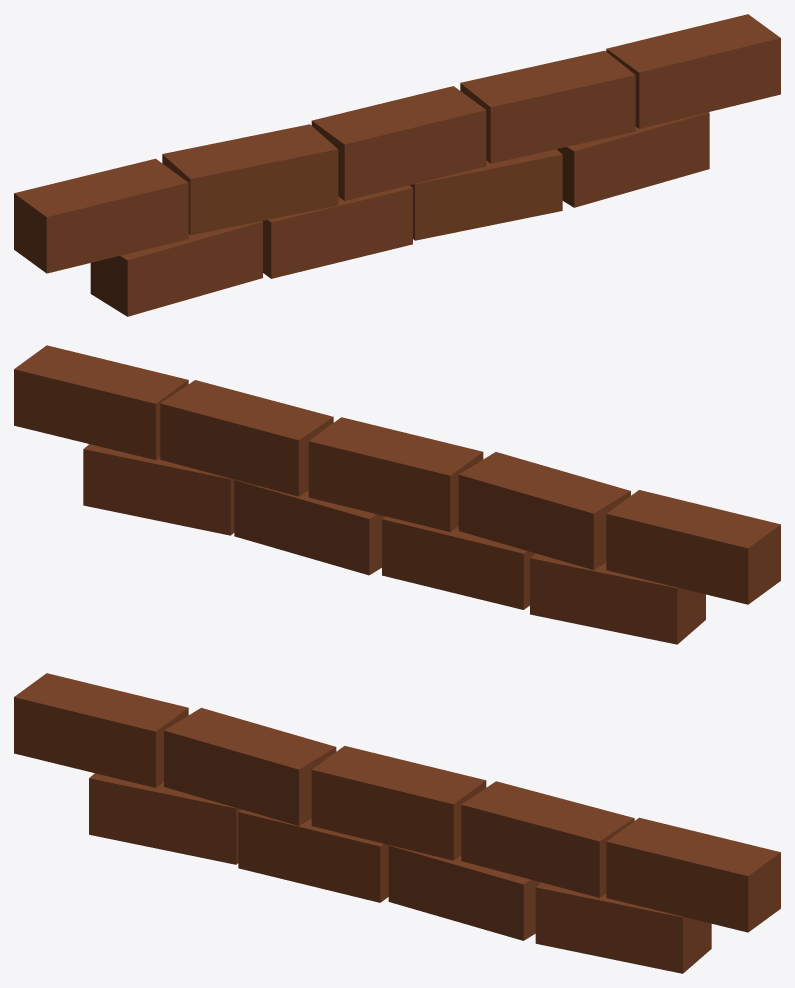
The model's file is middle_eastern_sandstone_wall__7uEf9KAU9q.glb.
3 renders of one model, top to bottom at view 1: azimuth 30°, elevation 25°; view 2: azimuth 150°, elevation 25°; view 3: azimuth 330°, elevation 25°, orthographic.
Visible parts, largest first — view 1: BrickWall_1; view 2: BrickWall_1; view 3: BrickWall_1.
Part boxes in pixels (x1,y1,x2,y2): BrickWall_1: [14, 14, 780, 316]; BrickWall_1: [14, 345, 780, 644]; BrickWall_1: [14, 673, 780, 973].
Size of the model in its own units: 2.24 by 0.3392 by 0.206.
